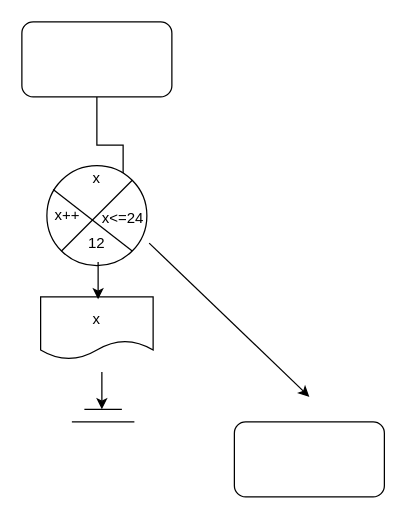
The diagram is 406 pixels wide and 519 high, and some of its shapes have lost their labels. The shapes that lost their labels are listed below. From the top down, each one's box as (x1, y1, x2, y2) in pixels, then its label:
(21, 21, 172, 97): START
(233, 421, 384, 497): STOP
